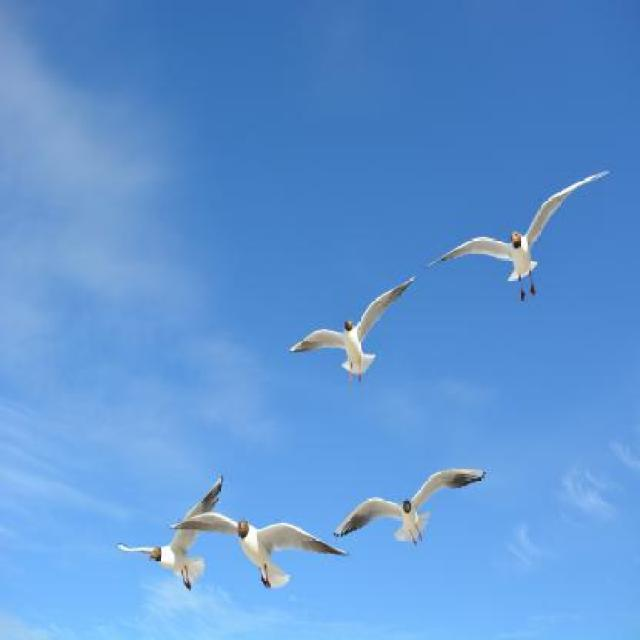bird: (426, 168, 612, 302), (287, 274, 418, 386), (168, 514, 352, 589), (331, 468, 487, 549), (120, 476, 223, 593)
